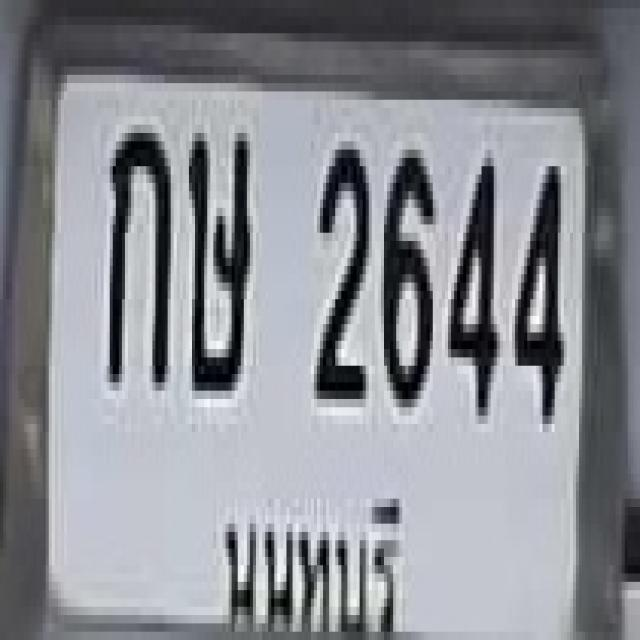2: (311, 133, 366, 391)
4: (512, 154, 561, 411), (445, 146, 494, 403)
6: (381, 137, 430, 395)
A01: (106, 121, 168, 378)
A39: (186, 120, 247, 387)
NBI: (217, 485, 415, 640)
